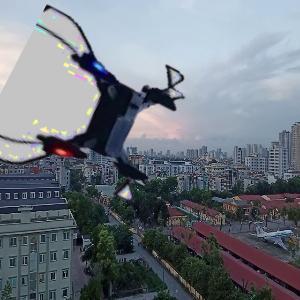drone: (3, 24, 182, 203)
